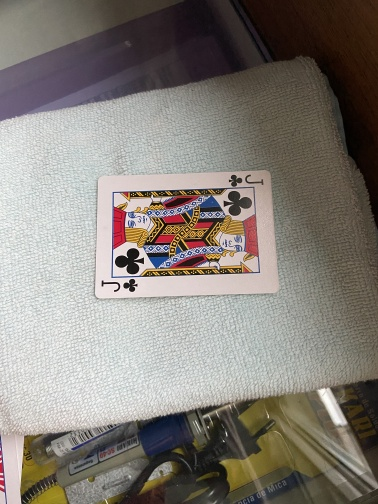jack: (93, 168, 280, 301)
